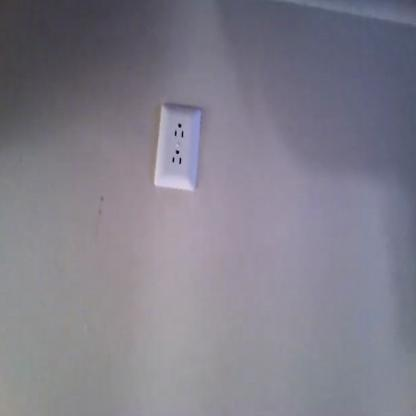OUTLET: (154, 106, 202, 189)
